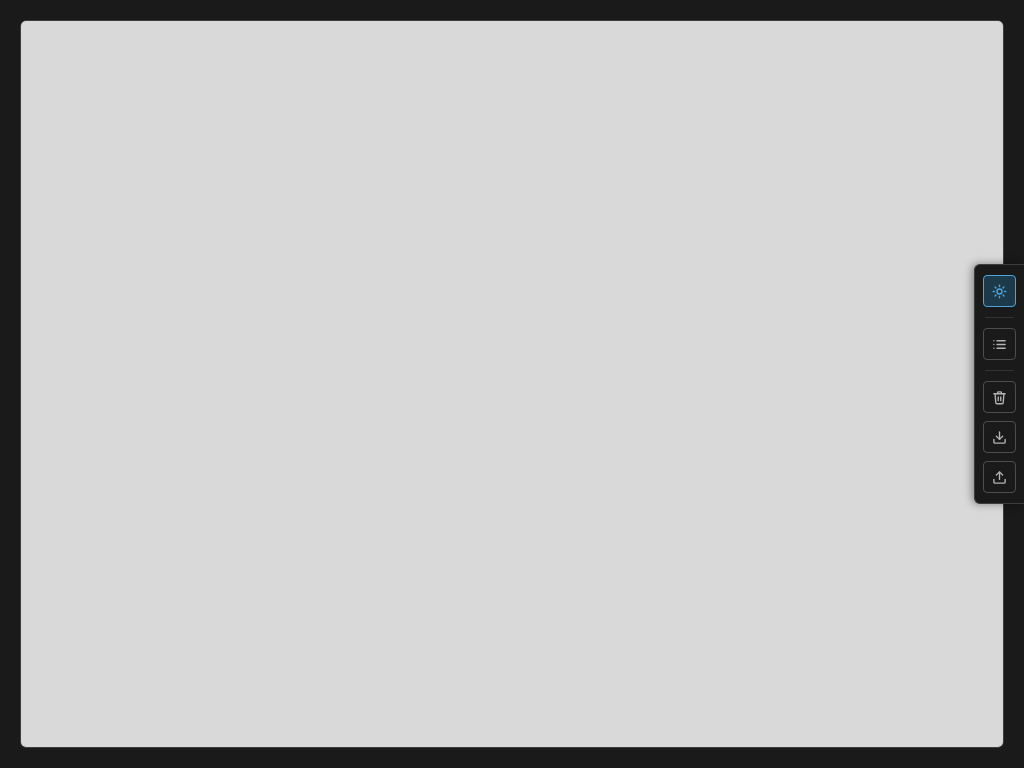
Test: App.svelte › import toolbar button opens the import modal (F37)
This screenshot has width=1024, height=768.
Expected: the field labelled "Import workspace" is not shown
Click the button named "Import": click(1000, 477) top-left (983, 461), bottom-right (1016, 493)
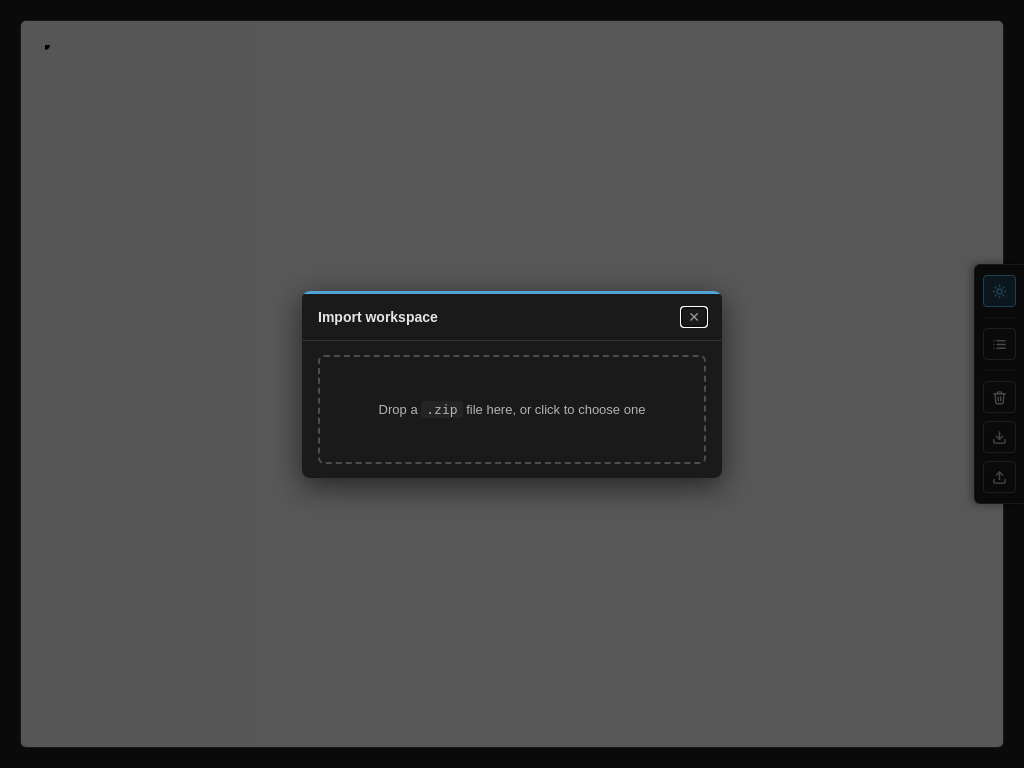
Result: the dialog labelled "Import workspace" is shown at top-left (302, 290), bottom-right (722, 478)
